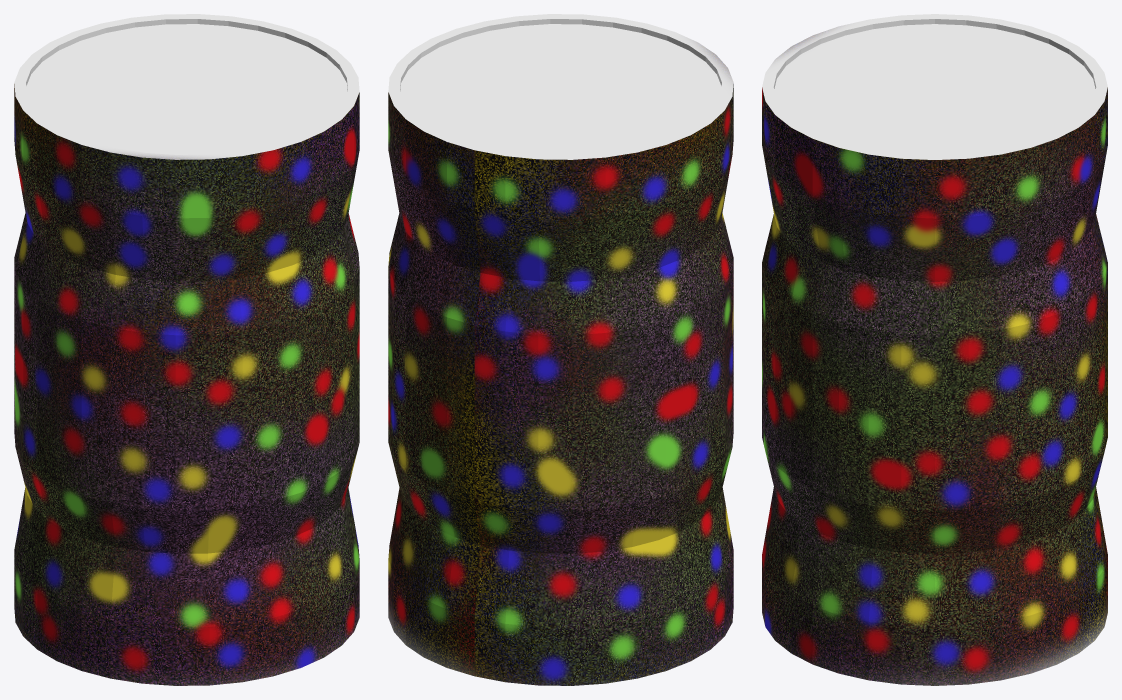
File: Jellybeans.fbx
The picture shows the model from 3 angles, left to right: view 1: azimuth 30°, elevation 25°; view 2: azimuth 150°, elevation 25°; view 3: azimuth 270°, elevation 25°; orthographic projection.
Visible parts, largest first — view 1: Circle; view 2: Circle; view 3: Circle.
Part boxes in pixels (<box>): Circle: <box>14,14,359,685</box>; Circle: <box>388,14,733,685</box>; Circle: <box>762,14,1107,685</box>.
Size of the model in its own units: 35.63 by 59.78 by 35.63.
